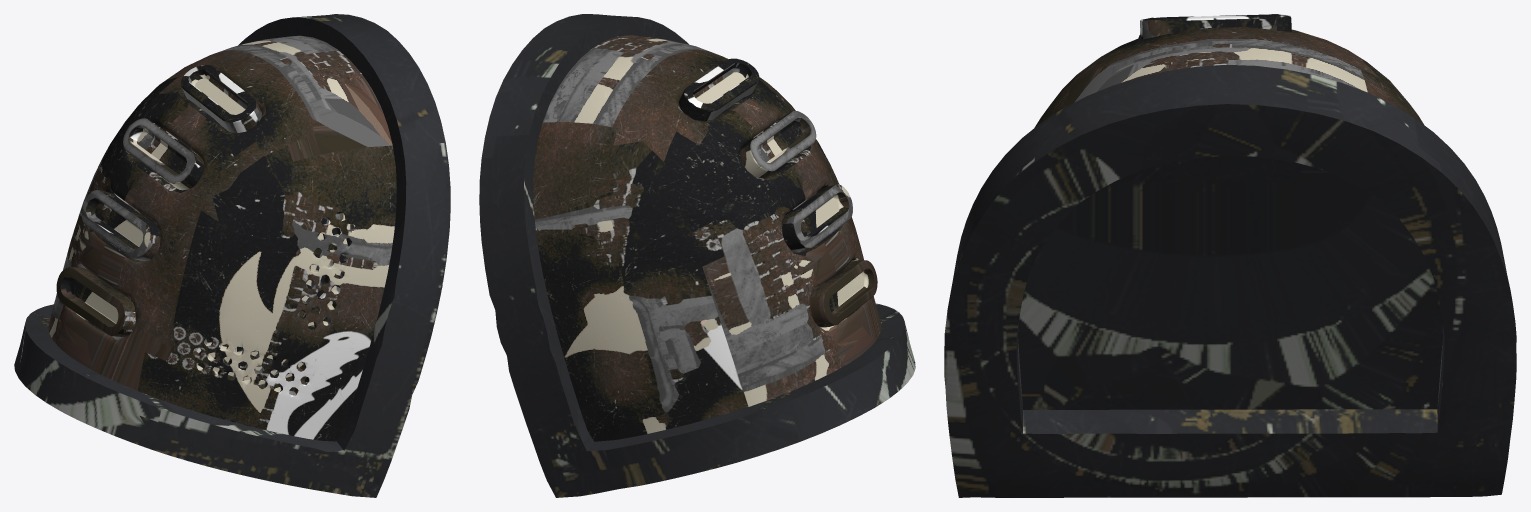
File: sigismund_hombrera_der.obj
3 views of the same model, side by side, from view 1: azimuth 30°, elevation 25°; view 2: azimuth 150°, elevation 25°; view 3: azimuth 270°, elevation 25° (orthographic). The views are drawn at different scales.
Parts seen in each view (by area): view 1: hombrera_der; view 2: hombrera_der; view 3: hombrera_der.
Part boxes in pixels (x1,y1,x2,y2): hombrera_der: [14, 14, 450, 497]; hombrera_der: [479, 14, 915, 497]; hombrera_der: [944, 14, 1516, 497].
Bounding box in the file's own units: 0.6015 × 0.6131 × 0.6671.
